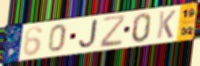0: (131, 11, 153, 45), (48, 23, 69, 54)
6: (22, 25, 44, 57)
J: (78, 18, 99, 50)
K: (156, 9, 178, 40)
Z: (100, 13, 127, 49)
